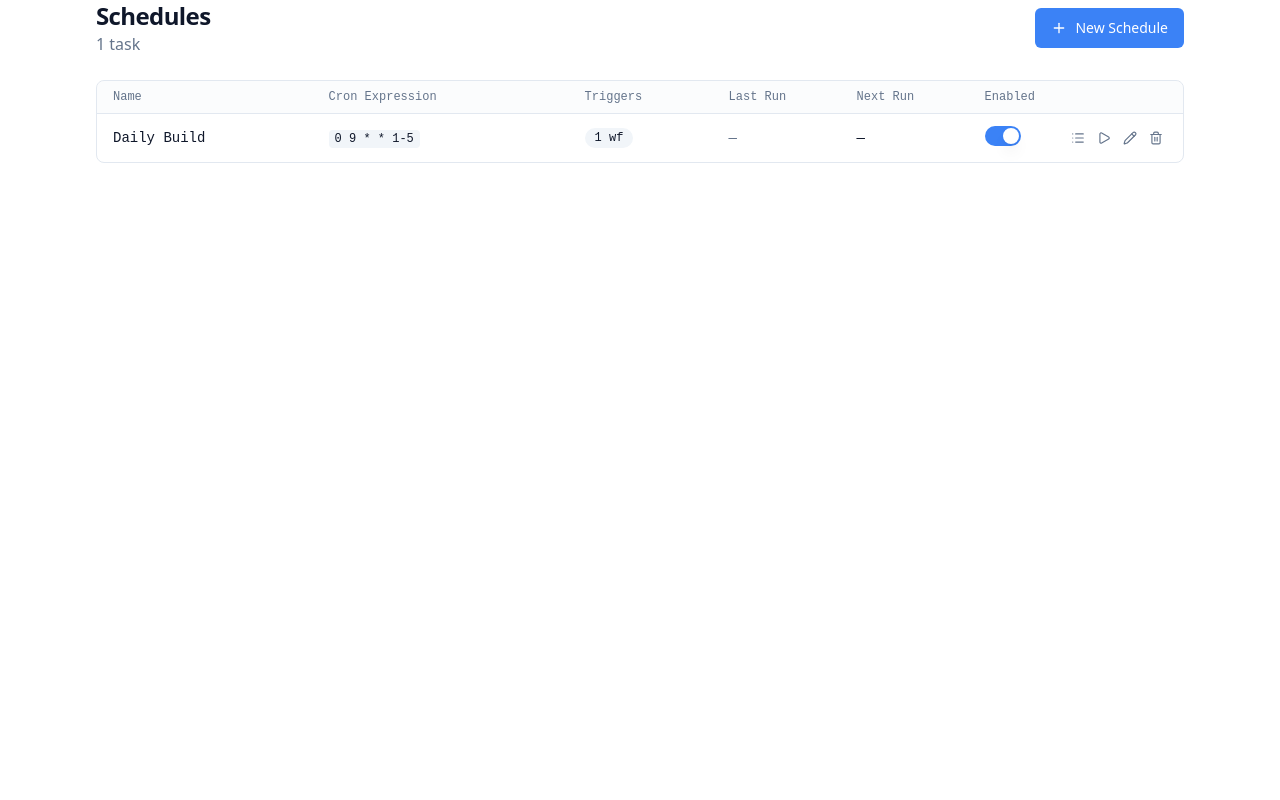
Test: SchedulesPage - Actions › clicking Delete opens confirm dialog
This screenshot has width=1280, height=800.
Click the button titled "Delete" at (1156, 138), box [1145,127,1167,149]
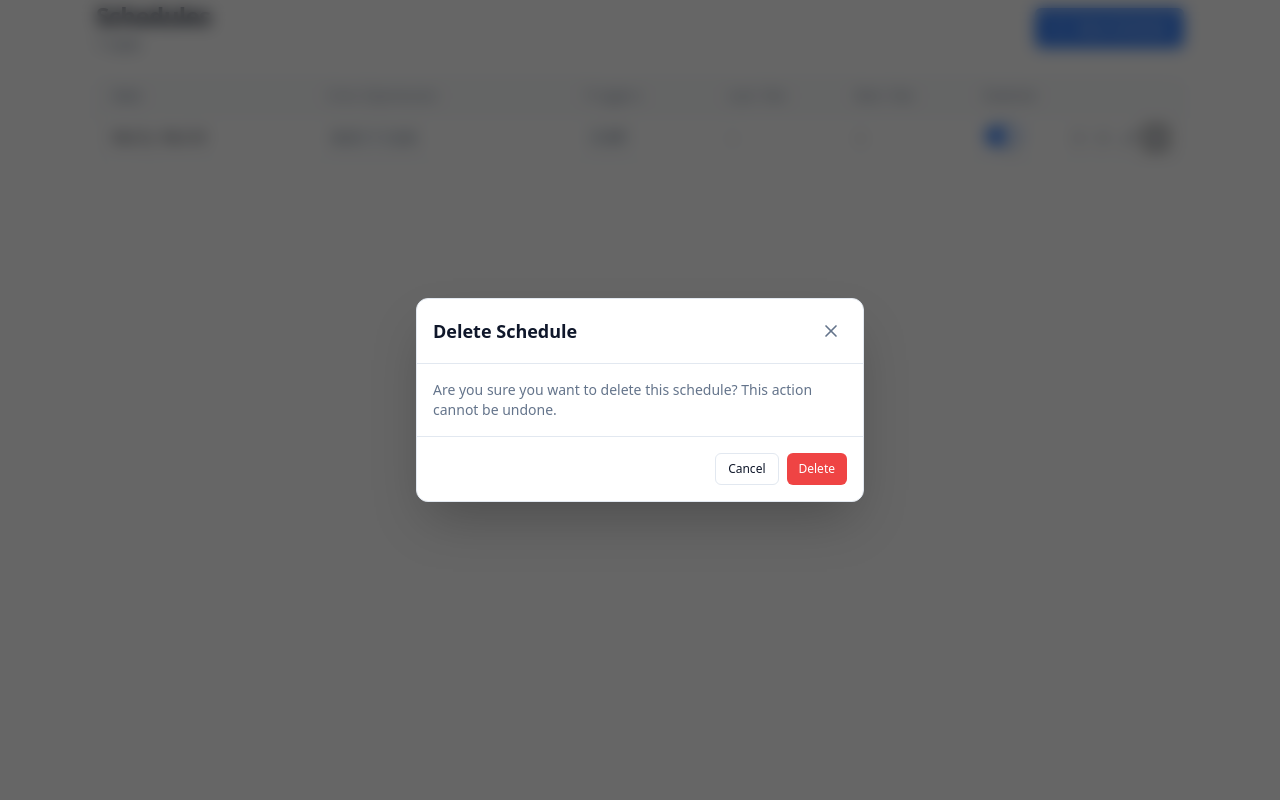
Check: the heading "Delete Schedule" is shown, box [433,319,577,343]
Check: the text "Are you sure you want to delete this schedule" is shown, box [433,380,812,419]
